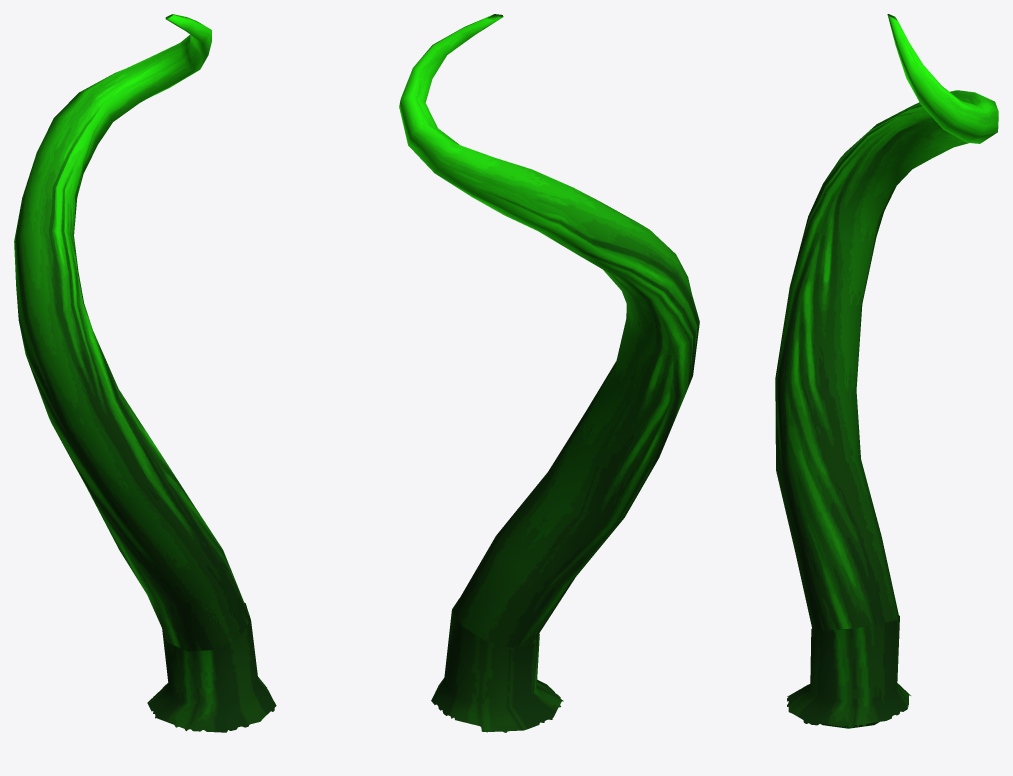
Rendered from netherlimb_8aa45737.glb.
3 views of the same model, side by side, from view 1: azimuth 30°, elevation 25°; view 2: azimuth 150°, elevation 25°; view 3: azimuth 270°, elevation 25° (orthographic). The views are drawn at different scales.
Bounding box in the file's own units: 3.44 × 7.62 × 2.73.
2 materials, 2 textured.
